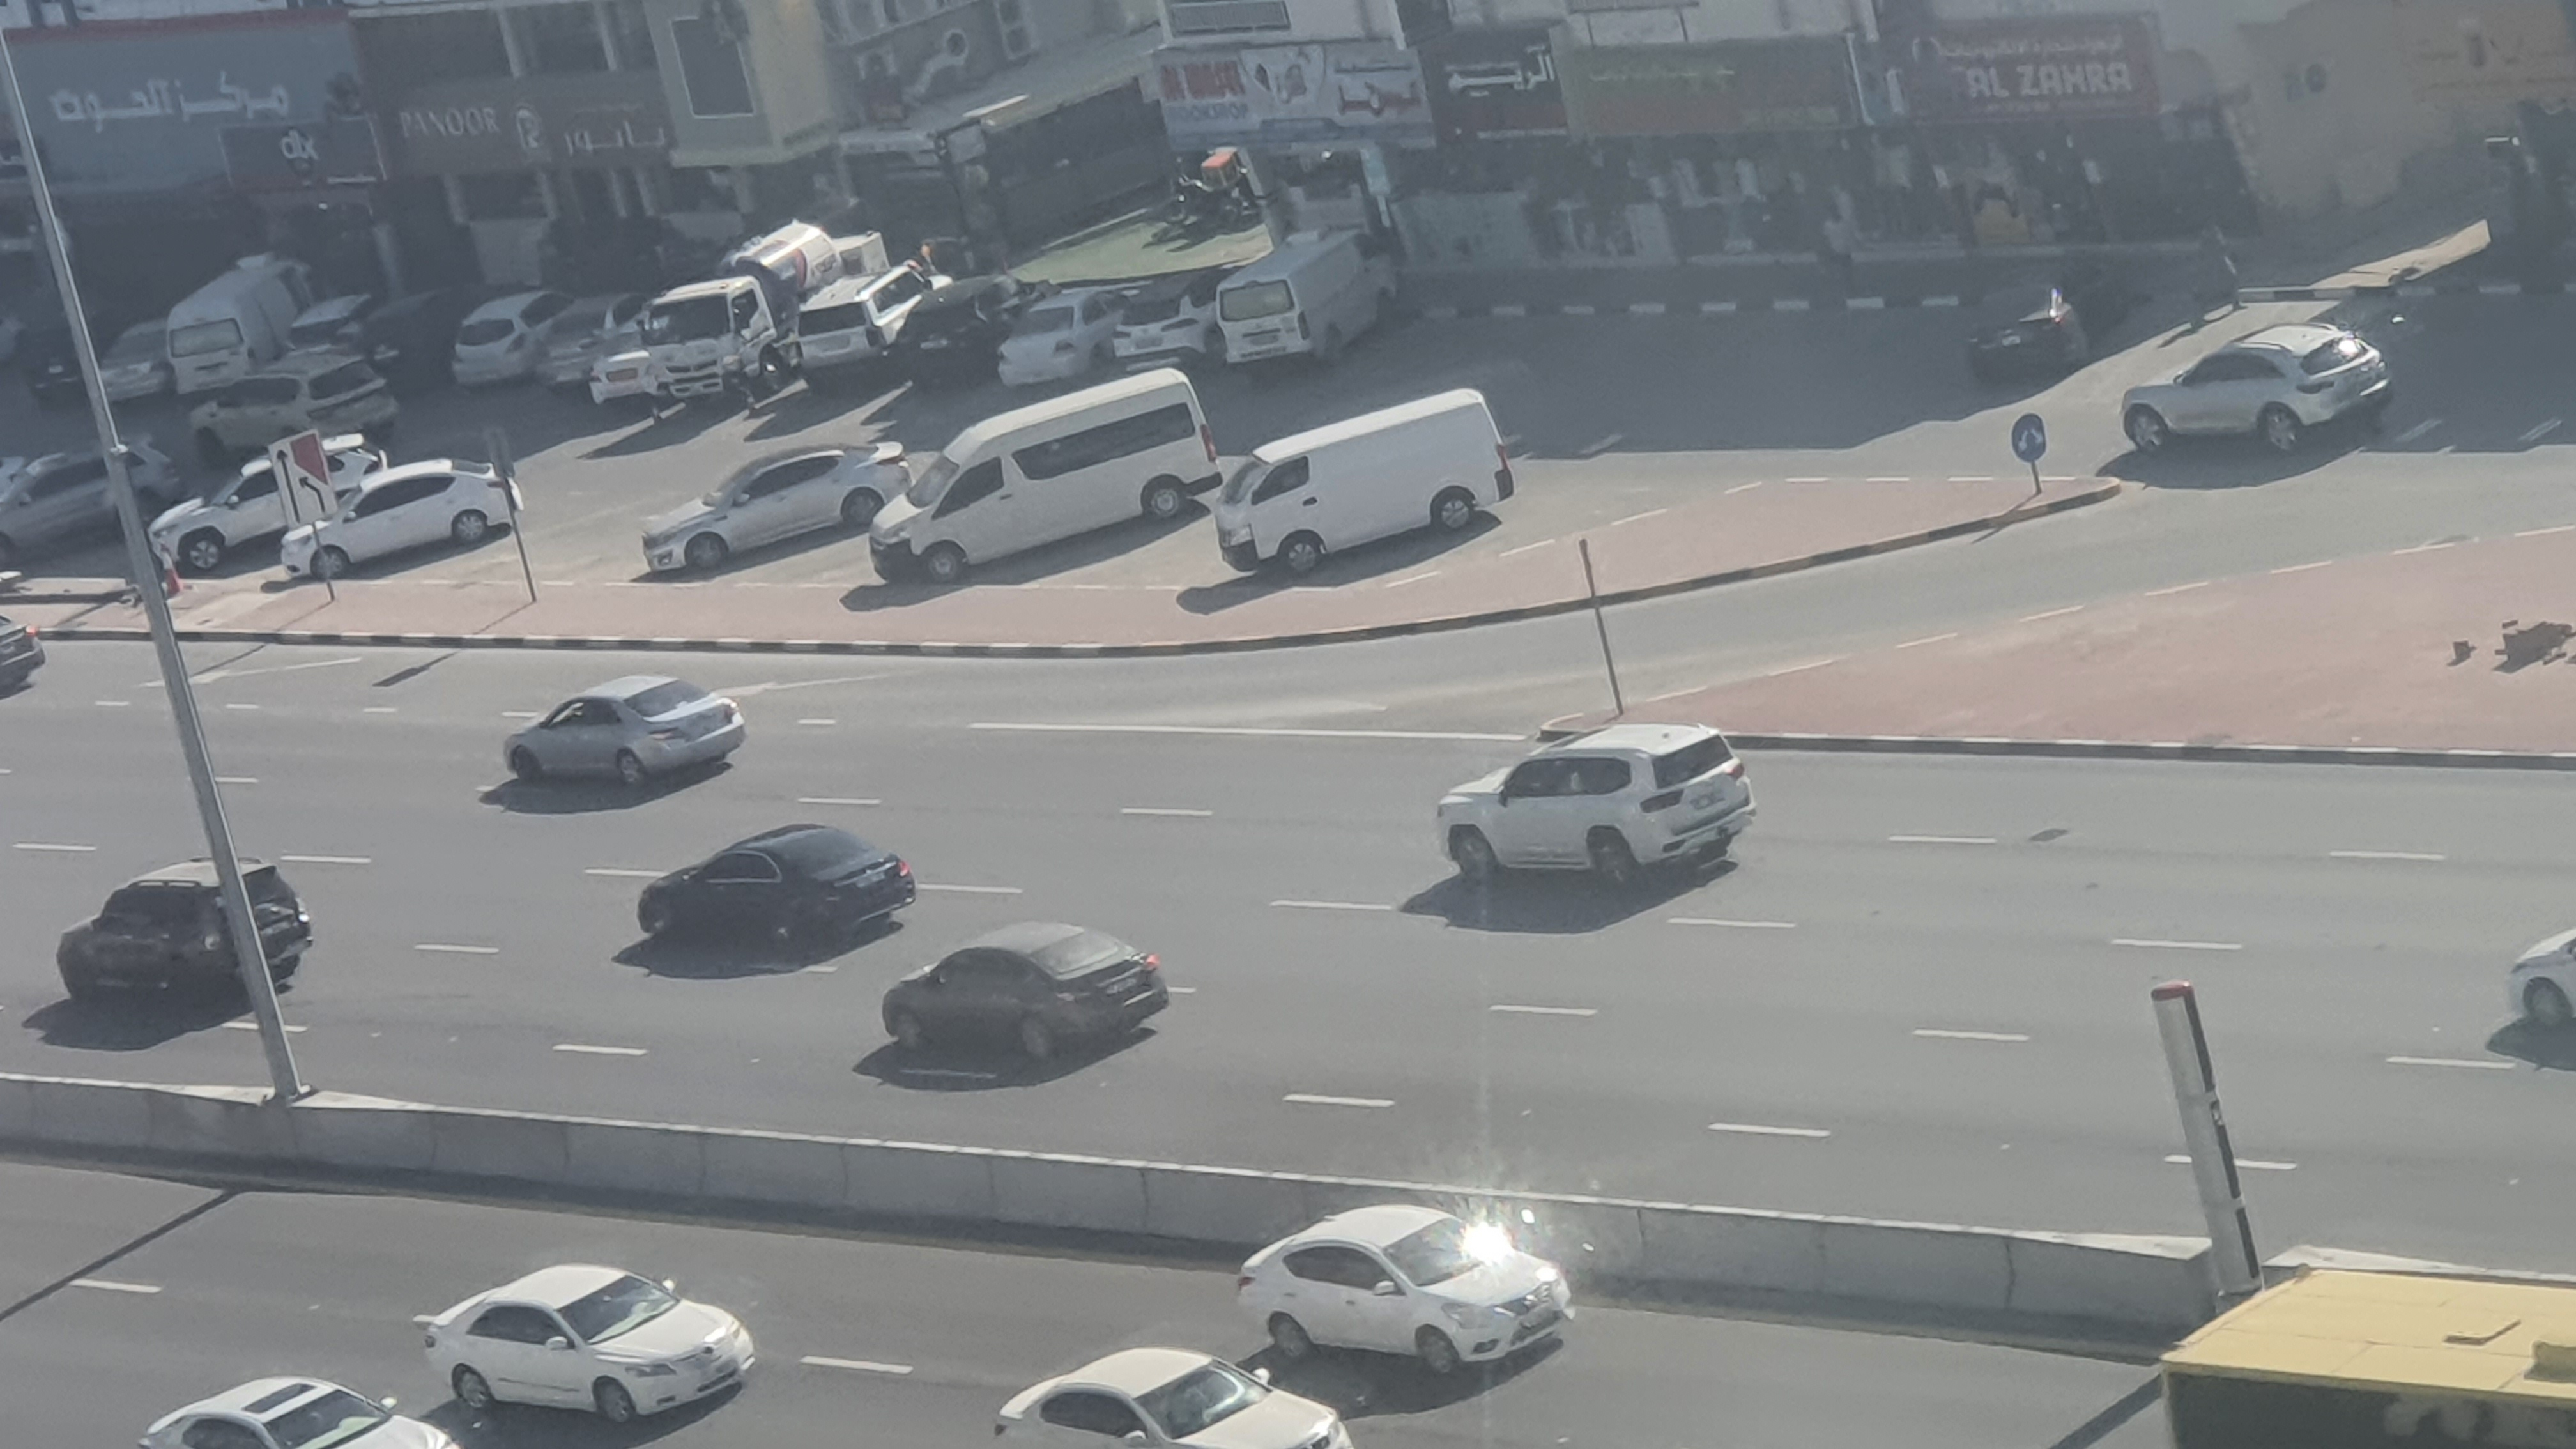NotSunroof: (1230, 1191, 1569, 1387), (419, 1249, 766, 1438), (978, 1332, 1376, 1449)
Sunroof: (142, 1369, 471, 1449)
